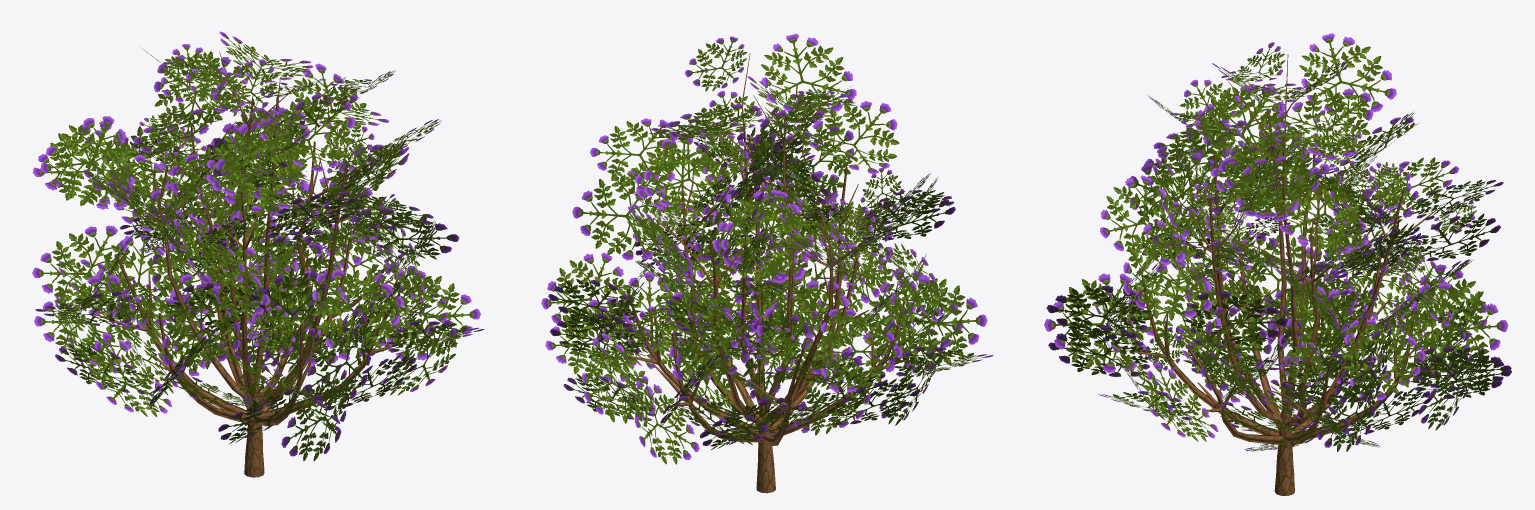
Rendered from fiolet_tree.fbx.
The picture shows the model from 3 angles, left to right: view 1: azimuth 30°, elevation 25°; view 2: azimuth 150°, elevation 25°; view 3: azimuth 270°, elevation 25°; orthographic projection. The views are drawn at different scales.
Parts seen in each view (by area): view 1: fiolet_tree; view 2: fiolet_tree; view 3: fiolet_tree.
Part boxes in pixels (x1,y1,x2,y2): fiolet_tree: (32, 31, 484, 477); fiolet_tree: (541, 33, 993, 493); fiolet_tree: (1044, 33, 1511, 495).
Size of the model in its own units: 12.35 by 11.66 by 11.87.
